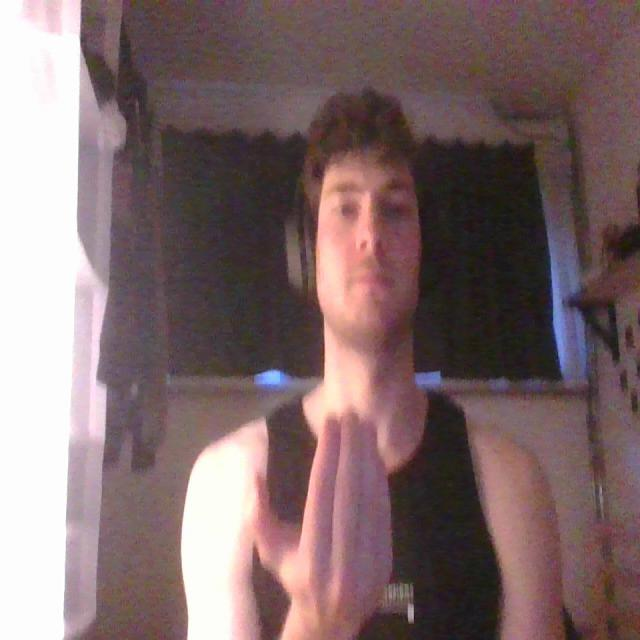forward: (245, 404, 410, 622)
